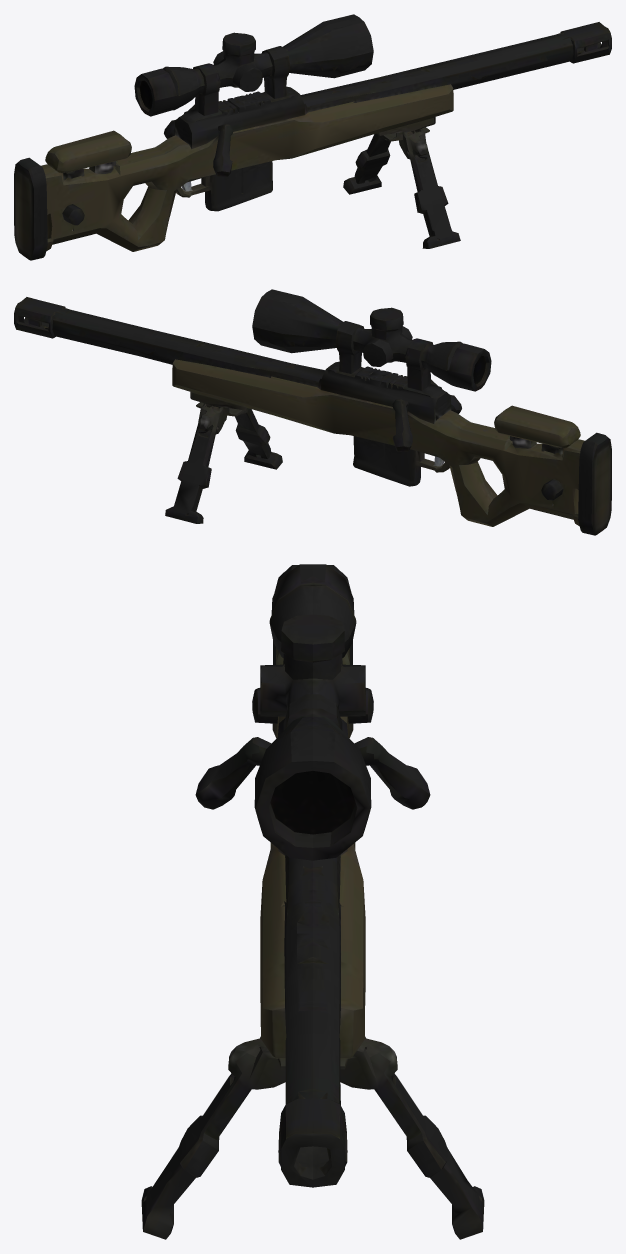
File: gun-sniper.glb
The picture shows the model from 3 angles, top to bottom: view 1: azimuth 30°, elevation 25°; view 2: azimuth 150°, elevation 25°; view 3: azimuth 270°, elevation 25°; orthographic projection. The views are drawn at different scales.
Parts seen in each view (by area): view 1: world; view 2: world; view 3: world.
Part boxes in pixels (x1=…): world: x1=14, y1=14, x2=611, y2=260; world: x1=14, y1=289, x2=611, y2=535; world: x1=141, y1=564, x2=484, y2=1239.
Bounding box in the file's own units: 1 × 0.3604 × 0.2561.
Materials: 1 (1 with a texture image).
